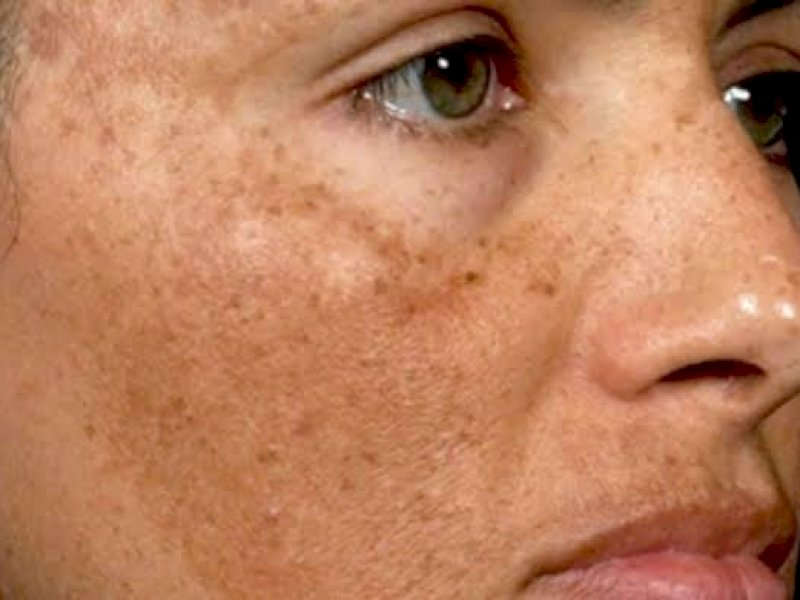Flek Hitam: (60, 98, 587, 551)
